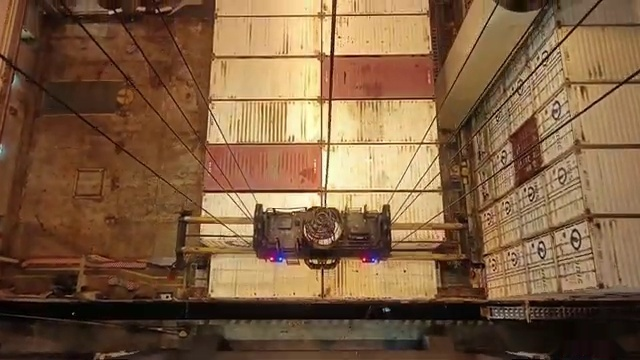container: (199, 189, 448, 251), (202, 142, 442, 190), (209, 256, 438, 302), (203, 99, 438, 143), (206, 57, 438, 98)
guide_mark: (62, 344, 561, 360), (96, 348, 540, 359)
spreader: (171, 200, 482, 267)
target_slot: (201, 190, 445, 254)
